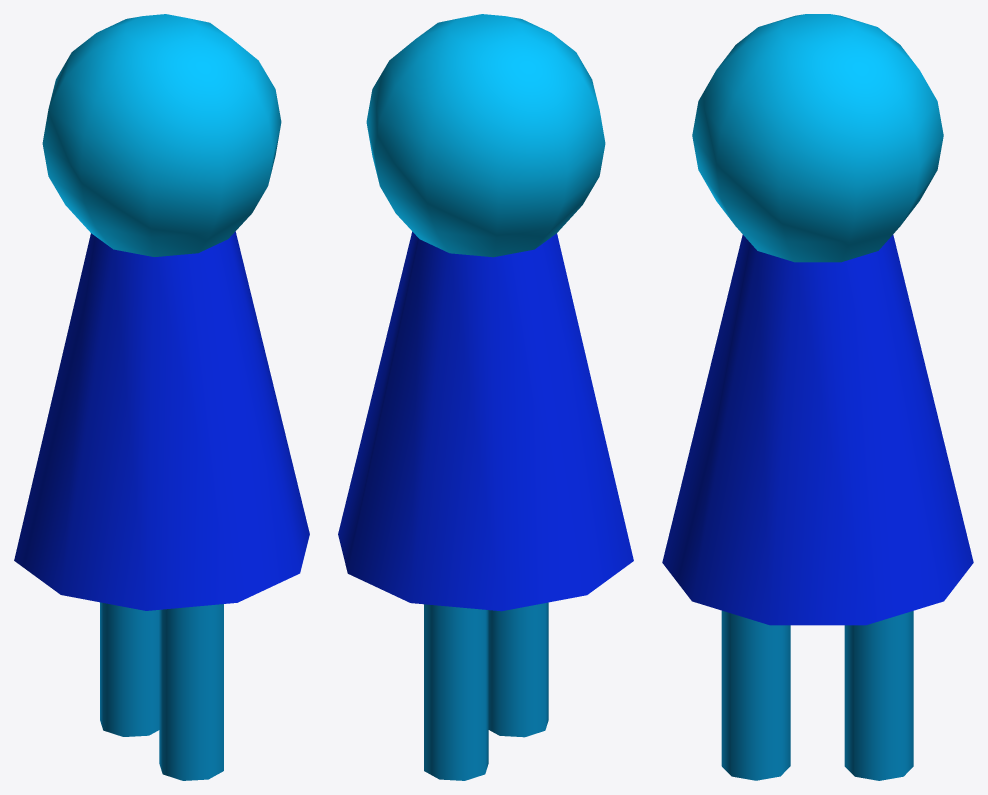
Rendered from 2025-01-29-Boswell-RecoloredPeopleModel-v004.fbx.
The picture shows the model from 3 angles, left to right: view 1: azimuth 30°, elevation 25°; view 2: azimuth 150°, elevation 25°; view 3: azimuth 270°, elevation 25°; orthographic projection. The views are drawn at different scales.
Visible parts, largest first — view 1: Body, Leg02, Leg01; view 2: Body, Leg01, Leg02; view 3: Body, Leg02, Leg01.
Part boxes in pixels (x1=…): Body: x1=14, y1=14, x2=309, y2=610; Leg02: x1=159, y1=604, x2=223, y2=780; Leg01: x1=100, y1=602, x2=159, y2=736; Body: x1=338, y1=14, x2=633, y2=611; Leg01: x1=424, y1=604, x2=488, y2=780; Leg02: x1=488, y1=602, x2=548, y2=737; Body: x1=662, y1=14, x2=973, y2=625; Leg02: x1=721, y1=610, x2=790, y2=780; Leg01: x1=844, y1=611, x2=913, y2=780.
Bounding box in the file's own units: 241 × 661 × 253.
